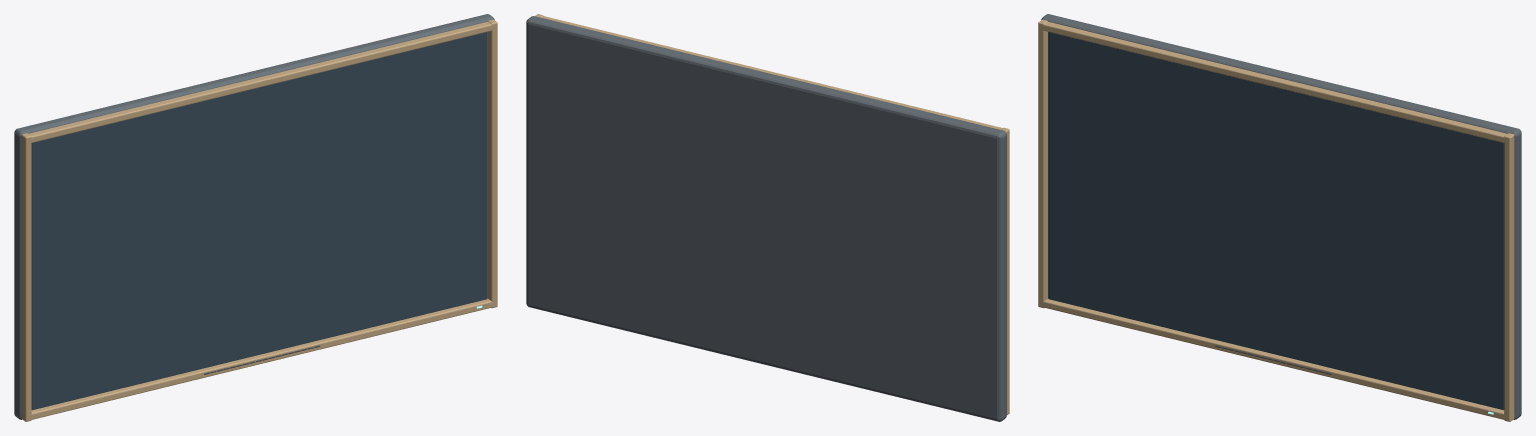
Rendered from tv-bronze-optional.glb.
3 renders of one model, left to right at view 1: azimuth 30°, elevation 25°; view 2: azimuth 150°, elevation 25°; view 3: azimuth 330°, elevation 25°, orthographic.
Parts seen in each view (by area): view 1: Display, Back_shell, Horizontal_bezel_1.51, Horizontal_bezel_-1.51, Vertical_bezel_-2.66, Vertical_bezel_2.66; view 2: Back_shell, Horizontal_bezel_1.51, Vertical_bezel_-2.66; view 3: Display, Back_shell, Horizontal_bezel_1.51, Horizontal_bezel_-1.51, Vertical_bezel_2.66, Vertical_bezel_-2.66.
Boxes of the visible parts, x1,y1,x2,y2 form: Display: [31, 32, 487, 410]; Back_shell: [14, 14, 494, 419]; Horizontal_bezel_1.51: [28, 21, 496, 142]; Horizontal_bezel_-1.51: [27, 299, 496, 419]; Vertical_bezel_-2.66: [21, 133, 31, 421]; Vertical_bezel_2.66: [488, 19, 497, 308]; Back_shell: [526, 16, 1006, 421]; Horizontal_bezel_1.51: [541, 16, 1002, 129]; Vertical_bezel_-2.66: [1001, 127, 1009, 414]; Display: [1048, 32, 1504, 410]; Back_shell: [1041, 14, 1521, 419]; Horizontal_bezel_1.51: [1039, 21, 1507, 143]; Horizontal_bezel_-1.51: [1040, 299, 1508, 419]; Vertical_bezel_2.66: [1504, 133, 1514, 421]; Vertical_bezel_-2.66: [1038, 19, 1047, 308].
Bounding box in the file's own units: 5.44 × 3.15 × 0.2355.
